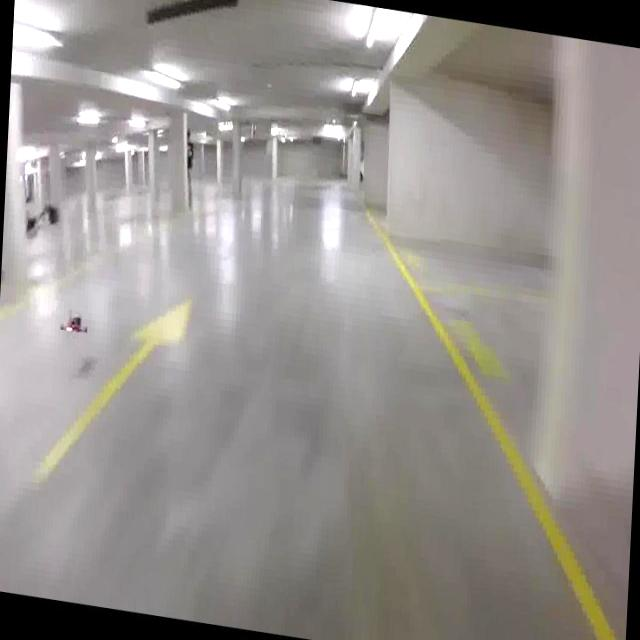drone: (54, 297, 95, 347)
